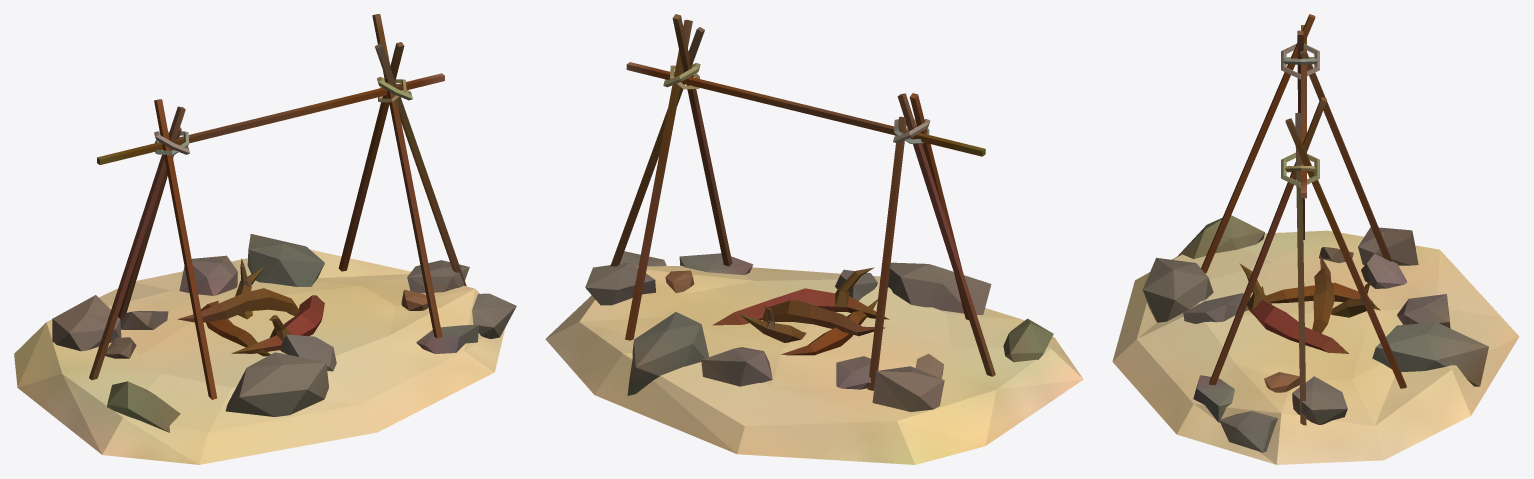
The model's file is mega-pack-plane-009.glb.
3 renders of one model, left to right at view 1: azimuth 30°, elevation 25°; view 2: azimuth 150°, elevation 25°; view 3: azimuth 270°, elevation 25°, orthographic. The views are drawn at different scales.
Visible parts, largest first — view 1: Plane.009; view 2: Plane.009; view 3: Plane.009.
Part boxes in pixels (box(x1,y1,x2,y2)): Plane.009: box(14, 14, 516, 464); Plane.009: box(545, 14, 1083, 464); Plane.009: box(1112, 14, 1519, 464).
Bounding box in the file's own units: 1.37 × 0.9337 × 1.09.
Materials: 1 (1 with a texture image).
